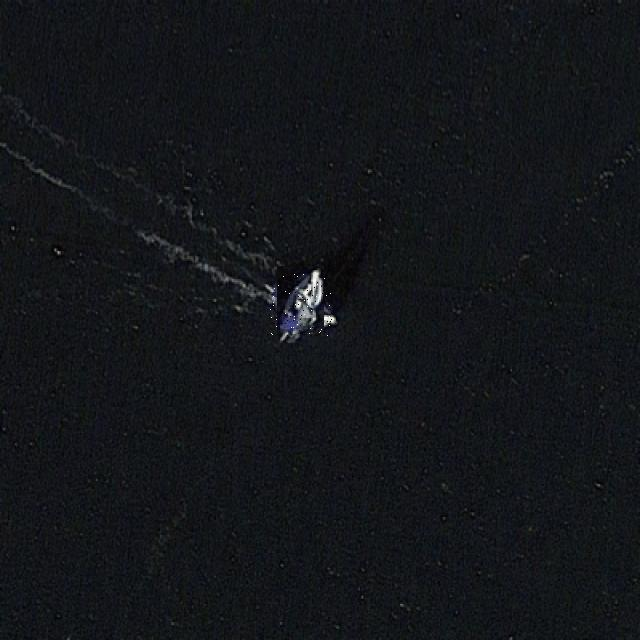boat: (270, 273, 332, 336)
